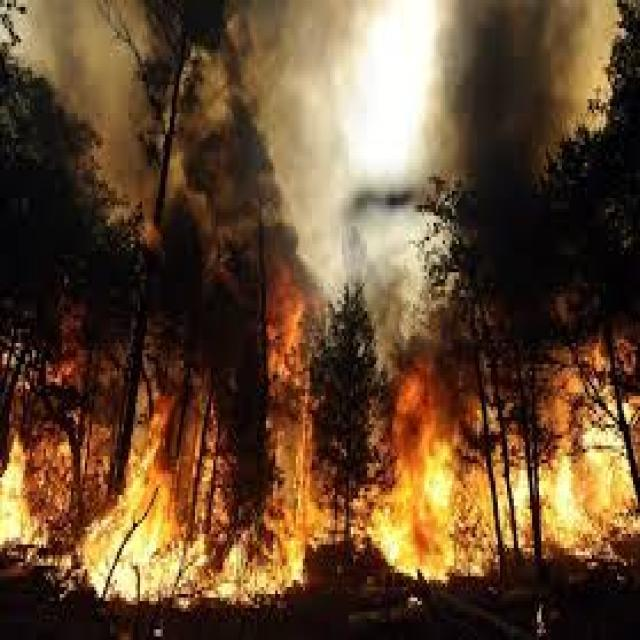Fire: (74, 355, 330, 602), (348, 362, 486, 580), (538, 336, 638, 558), (257, 274, 332, 354), (0, 436, 42, 554)
Smoke: (50, 12, 640, 230)
